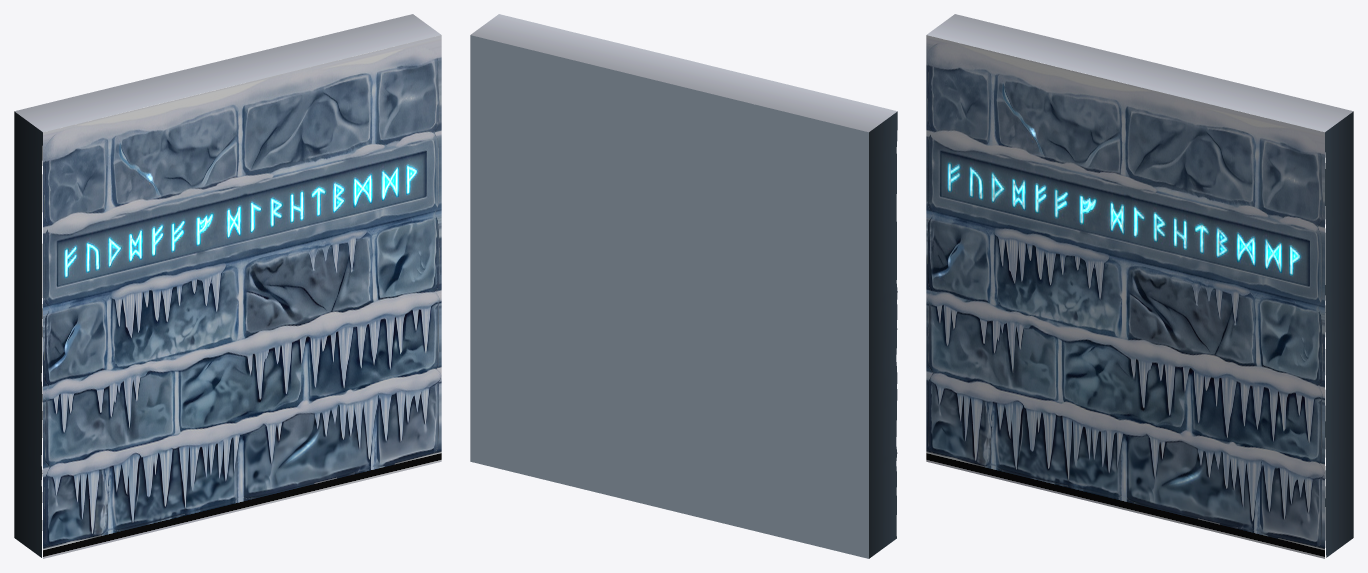
Rendered from wall_runes.glb.
3 renders of one model, left to right at view 1: azimuth 30°, elevation 25°; view 2: azimuth 150°, elevation 25°; view 3: azimuth 330°, elevation 25°, orthographic.
Parts seen in each view (by area): view 1: wall_runes; view 2: wall_runes; view 3: wall_runes.
Part boxes in pixels (x1,y1,x2,y2): wall_runes: (14,14,441,558); wall_runes: (470,14,897,558); wall_runes: (926,14,1353,558).
Bounding box in the file's own units: 2 × 2.05 × 0.25.
1 material, 1 textured.
